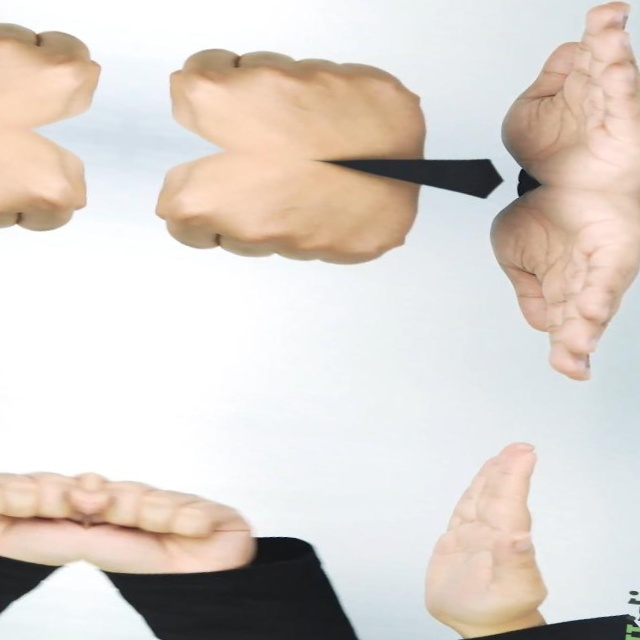Rock: (0, 107, 95, 240), (0, 450, 92, 568)
